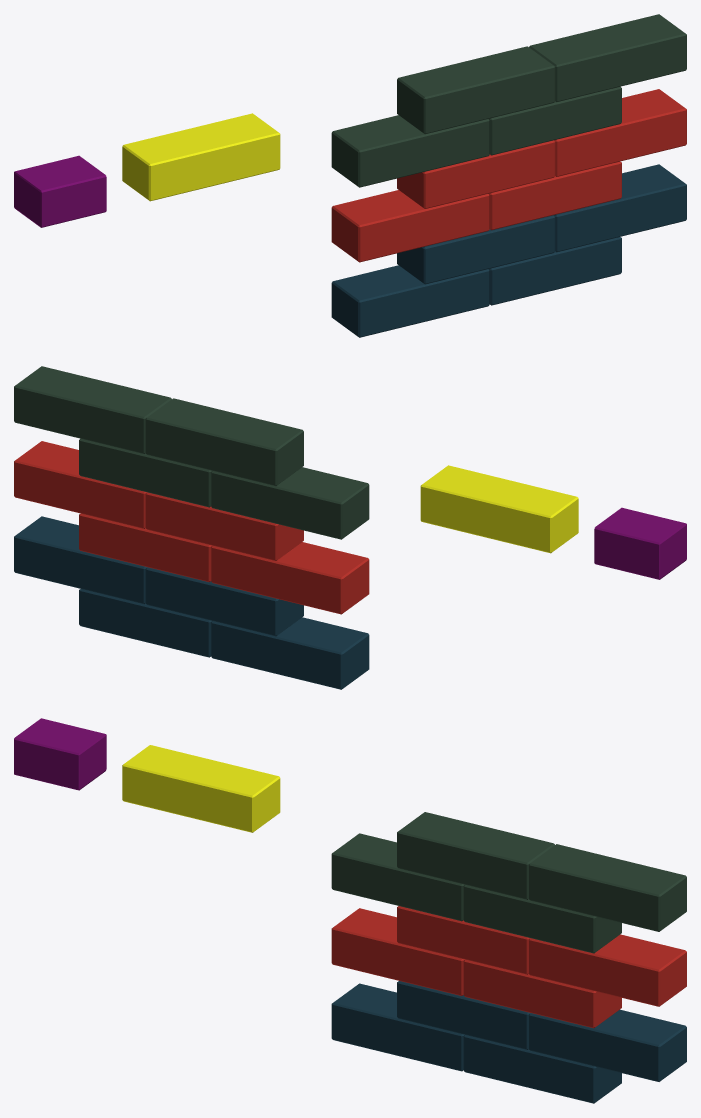
File: Wall.obj
3 renders of one model, top to bottom at view 1: azimuth 30°, elevation 25°; view 2: azimuth 150°, elevation 25°; view 3: azimuth 330°, elevation 25°, orthographic.
Parts seen in each view (by area): view 1: pasted__pasted__pasted__pasted__pCube9 pasted__pasted__pasted__g, group62 pasted__pasted__pasted__pCube9 pasted__pasted__group57 p, pasted__group61 group62 pasted__pasted__pasted__pCube9 pasted__p, pasted__pasted__pasted__pasted__pasted__pCube9 pasted__pasted__p, group62 pasted__pasted__pasted__pCube9 pasted__pasted__group55 p, pasted__group61 group62 pasted__pasted__pCube9, pasted__pCube9 group60, group60 pasted__pasted__pasted__pCube9 pasted__pasted__group57 p, pasted__pCube9 group57, pasted__pasted__pasted__pasted__pasted__pasted__pCube9 pasted__p, pasted__pasted__pCube9 pasted__group55 group56, group62 pasted__group60 pasted__pasted__pasted__pasted__pCube9 p; view 2: pasted__pasted__pasted__pasted__pCube9 pasted__pasted__pasted__g, group62 pasted__pasted__pasted__pCube9 pasted__pasted__group57 p, pasted__group61 group62 pasted__pasted__pasted__pCube9 pasted__p, pasted__pasted__pasted__pasted__pasted__pCube9 pasted__pasted__p, group62 pasted__pasted__pasted__pCube9 pasted__pasted__group55 p, pasted__group61 group62 pasted__pasted__pCube9, pasted__pCube9 group60, group60 pasted__pasted__pasted__pCube9 pasted__pasted__group57 p, pasted__pCube9 group57, pasted__pasted__pasted__pasted__pasted__pasted__pCube9 pasted__p, pasted__pasted__pCube9 pasted__group55 group56, group62 pasted__group60 pasted__pasted__pasted__pasted__pCube9 p; view 3: pasted__pasted__pasted__pasted__pCube9 pasted__pasted__pasted__g, group62 pasted__pasted__pasted__pCube9 pasted__pasted__group57 p, pasted__pasted__pasted__pasted__pasted__pCube9 pasted__pasted__p, pasted__group61 group62 pasted__pasted__pasted__pCube9 pasted__p, group60 pasted__pasted__pasted__pCube9 pasted__pasted__group57 p, group62 pasted__pasted__pasted__pCube9 pasted__pasted__group55 p, pasted__pCube9 group60, pasted__group61 group62 pasted__pasted__pCube9, pasted__pasted__pCube9 pasted__group55 group56, group62 pasted__group60 pasted__pasted__pasted__pasted__pCube9 p, pasted__pasted__pasted__pasted__pasted__pasted__pCube9 pasted__p, pasted__pCube9 group57.
Boxes of the visible parts, x1,y1,x2,y2 form: pasted__pasted__pasted__pasted__pCube9 pasted__pasted__pasted__g: (489,14,686,155); group62 pasted__pasted__pasted__pCube9 pasted__pasted__group57 p: (397,140,686,252); pasted__group61 group62 pasted__pasted__pasted__pCube9 pasted__p: (397,46,555,134); pasted__pasted__pasted__pasted__pasted__pCube9 pasted__pasted__p: (122,113,280,201); group62 pasted__pasted__pasted__pCube9 pasted__pasted__group55 p: (331,265,489,337); pasted__group61 group62 pasted__pasted__pCube9: (331,115,489,187); pasted__pCube9 group60: (331,190,489,262); group60 pasted__pasted__pasted__pCube9 pasted__pasted__group57 p: (554,89,686,176); pasted__pCube9 group57: (397,215,555,284); pasted__pasted__pasted__pasted__pasted__pasted__pCube9 pasted__p: (14,155,106,227); pasted__pasted__pCube9 pasted__group55 group56: (488,237,621,305); group62 pasted__group60 pasted__pasted__pasted__pasted__pCube9 p: (488,161,621,230); pasted__pasted__pasted__pasted__pCube9 pasted__pasted__pasted__g: (14,366,211,507); group62 pasted__pasted__pasted__pCube9 pasted__pasted__group57 p: (14,492,303,604); pasted__group61 group62 pasted__pasted__pasted__pCube9 pasted__p: (145,398,303,486); pasted__pasted__pasted__pasted__pasted__pCube9 pasted__pasted__p: (420,465,578,553); group62 pasted__pasted__pasted__pCube9 pasted__pasted__group55 p: (211,617,369,689); pasted__group61 group62 pasted__pasted__pCube9: (211,467,369,539); pasted__pCube9 group60: (211,542,369,614); group60 pasted__pasted__pasted__pCube9 pasted__pasted__group57 p: (14,441,146,528); pasted__pCube9 group57: (145,567,303,636); pasted__pasted__pasted__pasted__pasted__pasted__pCube9 pasted__p: (594,507,686,579); pasted__pasted__pCube9 pasted__group55 group56: (79,589,212,657); group62 pasted__group60 pasted__pasted__pasted__pasted__pCube9 p: (79,513,212,582); pasted__pasted__pasted__pasted__pCube9 pasted__pasted__pasted__g: (463,844,686,953); group62 pasted__pasted__pasted__pCube9 pasted__pasted__group57 p: (397,906,686,1081); pasted__pasted__pasted__pasted__pasted__pCube9 pasted__pasted__p: (122,745,280,832); pasted__group61 group62 pasted__pasted__pasted__pCube9 pasted__p: (397,812,554,899); group60 pasted__pasted__pasted__pCube9 pasted__pasted__group57 p: (529,934,686,1006); group62 pasted__pasted__pasted__pCube9 pasted__pasted__group55 p: (331,983,464,1071); pasted__pCube9 group60: (331,908,464,995); pasted__group61 group62 pasted__pasted__pCube9: (331,833,464,921); pasted__pasted__pCube9 pasted__group55 group56: (463,1035,621,1103); group62 pasted__group60 pasted__pasted__pasted__pasted__pCube9 p: (463,959,621,1028); pasted__pasted__pasted__pasted__pasted__pasted__pCube9 pasted__p: (14,718,106,790); pasted__pCube9 group57: (397,981,530,1049).
Bounding box in the file's own units: 13.33 × 4.43 × 1.
